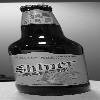beer: (4, 2, 93, 97)
